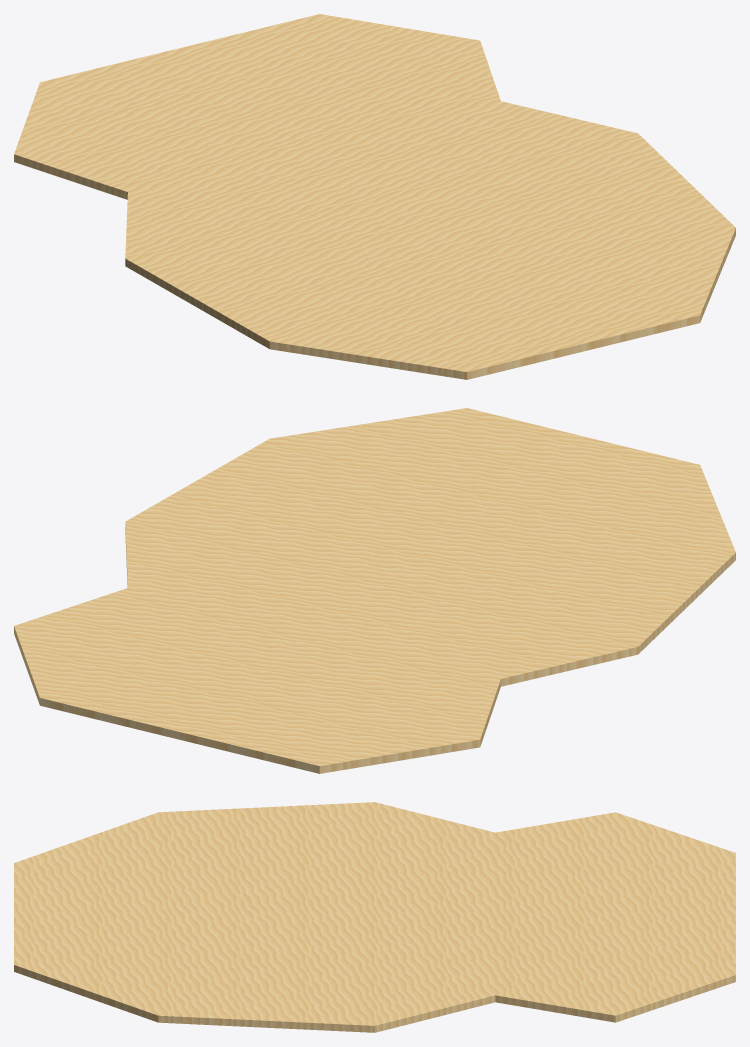
File: seabed-05-ibha17-L.glb
3 views of the same model, one above another, from view 1: azimuth 30°, elevation 25°; view 2: azimuth 150°, elevation 25°; view 3: azimuth 270°, elevation 25° (orthographic). The views are drawn at different scales.
Parts seen in each view (by area): view 1: SW_SandShelf; view 2: SW_SandShelf; view 3: SW_SandShelf.
Part boxes in pixels (box(x1,y1,x2,y2)): SW_SandShelf: box(14, 14, 735, 379); SW_SandShelf: box(14, 408, 735, 773); SW_SandShelf: box(14, 802, 735, 1032).
Size of what is drawn, in the model's own units: 22 by 0.32 by 30.
Materials: 1 (1 with a texture image).
